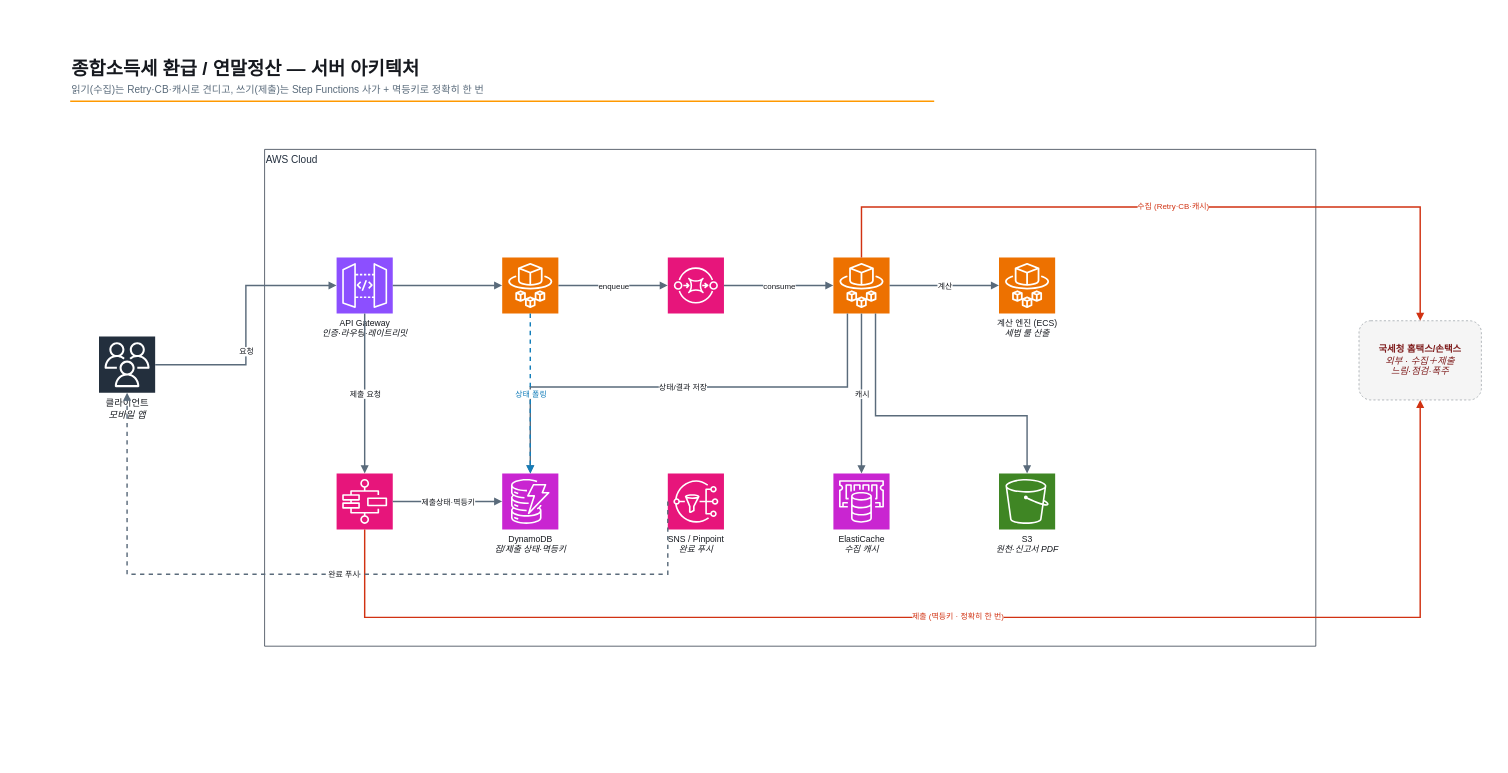
This 1508x773 diagram has some shape labels left out. Each missing label, with the centre of its shape:
"API (ECS Fargate) 잡 생성·상태 조회" belongs at point 529,285.
"SQS 잡 큐 + DLQ" belongs at point 695,285.
"Step Functions 셀프 신고 사가" belongs at point 364,501.
"Worker (ECS) 수집·Retry·CB" belongs at point 861,285.
